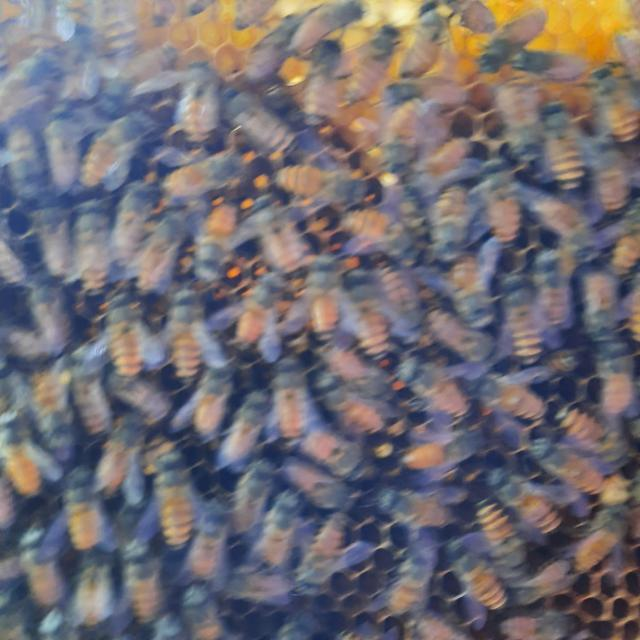honeybee: (221, 92, 305, 171), (0, 384, 57, 500), (300, 508, 363, 598), (371, 480, 465, 538), (225, 278, 289, 362), (316, 338, 402, 399), (142, 451, 196, 547), (49, 466, 101, 562), (426, 306, 498, 375), (515, 178, 588, 246), (79, 110, 147, 183), (566, 507, 637, 576), (536, 111, 593, 195), (258, 189, 310, 281), (489, 468, 566, 530), (394, 362, 469, 422), (114, 366, 184, 430), (556, 409, 630, 469), (477, 159, 528, 246), (322, 383, 385, 453), (295, 37, 347, 121), (109, 171, 152, 272), (118, 542, 166, 632), (186, 354, 238, 437), (584, 63, 640, 140), (93, 415, 142, 503), (68, 199, 114, 292), (474, 11, 544, 72), (229, 450, 277, 537), (163, 300, 215, 380), (16, 526, 62, 616), (583, 134, 635, 213), (385, 546, 435, 628), (429, 182, 478, 265), (64, 364, 114, 445), (356, 11, 400, 102), (280, 459, 349, 517), (344, 273, 390, 358), (297, 256, 348, 332), (34, 362, 76, 454), (498, 280, 546, 360), (177, 60, 222, 145), (224, 391, 269, 476), (286, 0, 365, 48), (105, 306, 153, 385), (449, 546, 497, 624), (24, 203, 70, 284), (297, 427, 360, 486), (91, 0, 148, 65), (482, 504, 532, 578), (71, 548, 116, 630), (242, 23, 296, 90), (264, 362, 308, 444), (134, 214, 177, 297), (184, 509, 230, 586), (398, 425, 478, 468), (451, 258, 498, 330), (259, 494, 303, 568), (344, 206, 408, 256), (376, 250, 414, 332), (379, 102, 429, 164), (482, 379, 544, 429), (195, 204, 231, 290), (411, 0, 446, 85), (535, 242, 567, 334), (402, 139, 472, 181), (169, 158, 227, 206), (584, 268, 619, 342), (186, 583, 231, 640), (45, 109, 74, 194), (36, 280, 69, 354), (514, 49, 582, 83), (2, 134, 38, 193), (503, 614, 582, 640), (409, 606, 466, 640), (610, 208, 640, 272), (445, 0, 493, 36), (225, 0, 275, 34), (627, 277, 640, 340)
